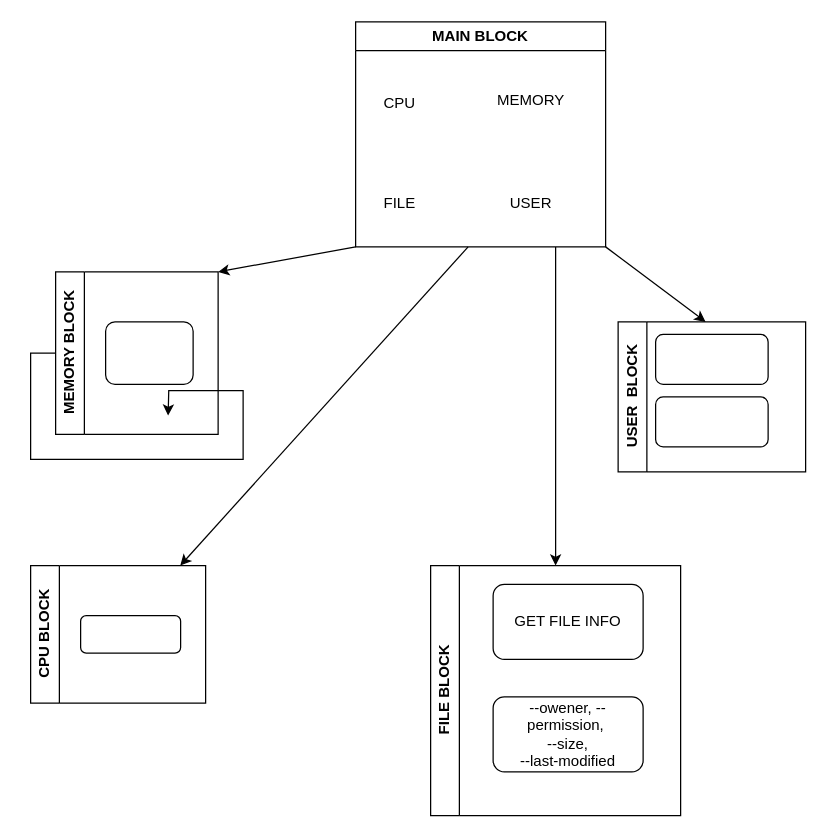
Some shapes in this 828 by 838 pixel diagram are drawn without their labels. Here are the shapes that lost their labels. From the top down, the centre of each, then its label:
the point at 148,352: GET MEMORY INFO
the point at 711,358: CREATE USER
the point at 711,421: LIST ALL USERS
the point at 130,633: GET CPU INFO
